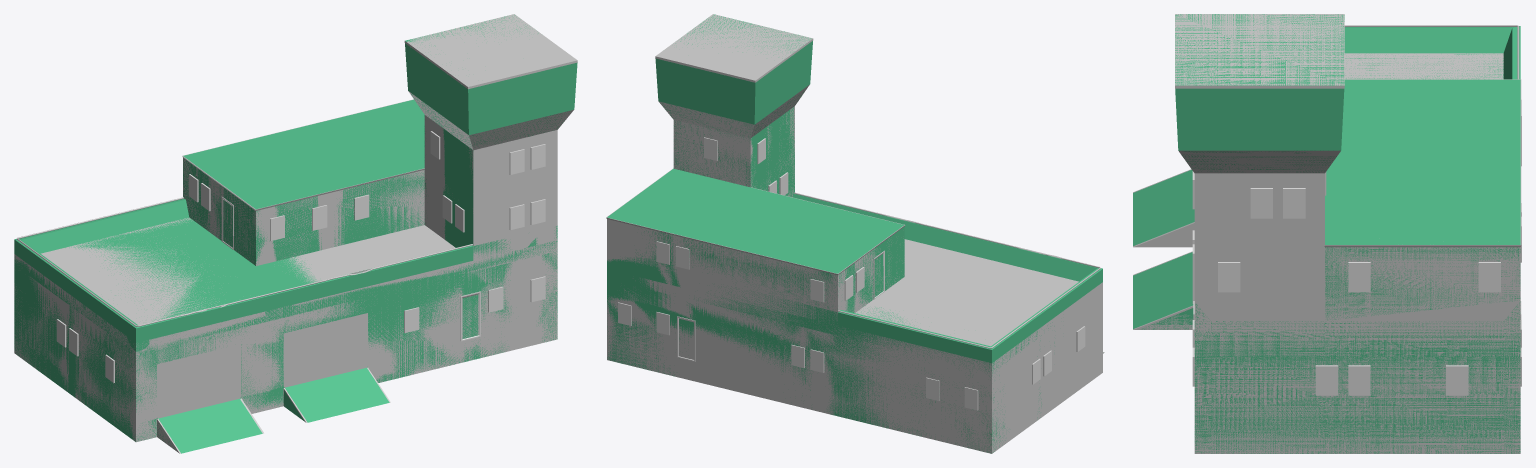
File: jri_airtower.dae
3 views of the same model, side by side, from view 1: azimuth 30°, elevation 25°; view 2: azimuth 150°, elevation 25°; view 3: azimuth 270°, elevation 25° (orthographic). The views are drawn at different scales.
Parts seen in each view (by area): view 1: Colmesh-1, ind_bld_a430, ind_bld_a30, ind_bld_a150; view 2: ind_bld_a430, Colmesh-1, ind_bld_a30, ind_bld_a150; view 3: Colmesh-1, ind_bld_a430, ind_bld_a30, ind_bld_a150.
Boxes of the visible parts, left/top/right/bottom form: Colmesh-1: left=14, top=15, right=577, bottom=453; ind_bld_a430: left=14, top=14, right=577, bottom=453; ind_bld_a30: left=14, top=22, right=557, bottom=441; ind_bld_a150: left=14, top=115, right=557, bottom=437; ind_bld_a430: left=606, top=14, right=1104, bottom=453; Colmesh-1: left=607, top=14, right=1102, bottom=453; ind_bld_a30: left=607, top=22, right=1102, bottom=452; ind_bld_a150: left=607, top=116, right=1102, bottom=453; Colmesh-1: left=1133, top=14, right=1520, bottom=453; ind_bld_a430: left=1133, top=14, right=1521, bottom=453; ind_bld_a30: left=1194, top=26, right=1520, bottom=453; ind_bld_a150: left=1193, top=53, right=1521, bottom=453.
Bounding box in the file's own units: 20.66 × 11.93 × 12.75.
